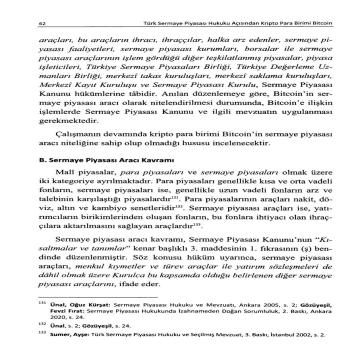footer: (49, 301, 339, 338)
header: (142, 18, 334, 26)
